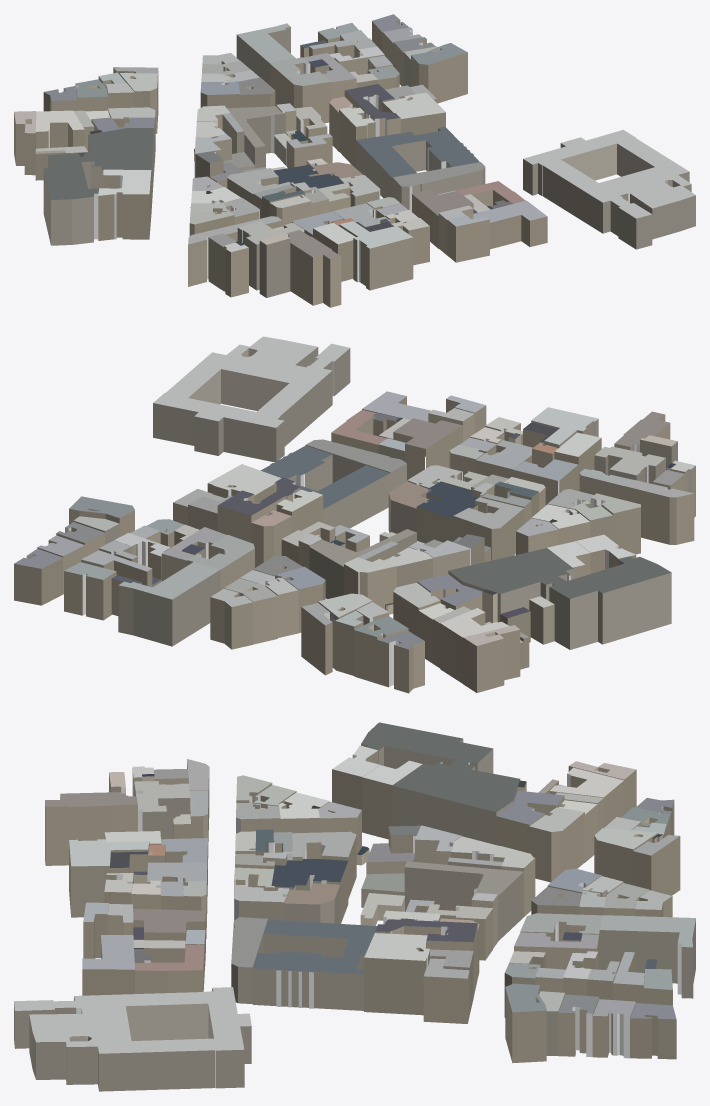
3 renders of one model, top to bottom at view 1: azimuth 30°, elevation 25°; view 2: azimuth 150°, elevation 25°; view 3: azimuth 270°, elevation 25°, orthographic. The views are drawn at different scales.
Parts seen in each view (by area): view 1: tuile; view 2: tuile; view 3: tuile.
Part boxes in pixels (box(x1,y1,x2,y2)): tuile: box(14, 14, 695, 307); tuile: box(14, 336, 695, 693); tuile: box(14, 722, 695, 1091).
Bounding box in the file's own units: 318 × 34.8 × 293.
